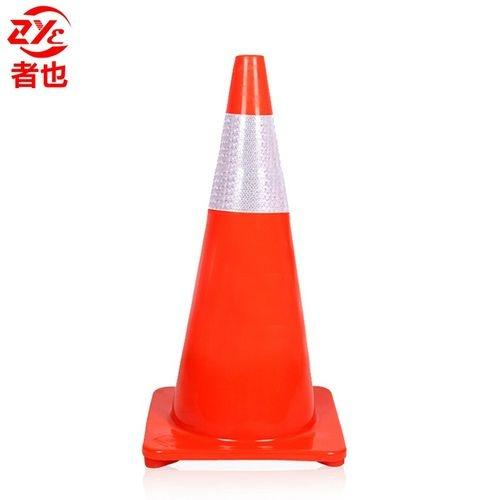cone_barrel: (158, 62, 333, 457)
